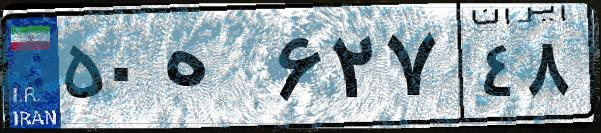0: (110, 28, 158, 98)
2: (330, 28, 385, 110)
4: (475, 38, 525, 113)
5: (57, 26, 110, 100)
6: (270, 28, 330, 110)
7: (385, 28, 445, 110)
8: (525, 38, 570, 115)
ه: (158, 20, 270, 120)
